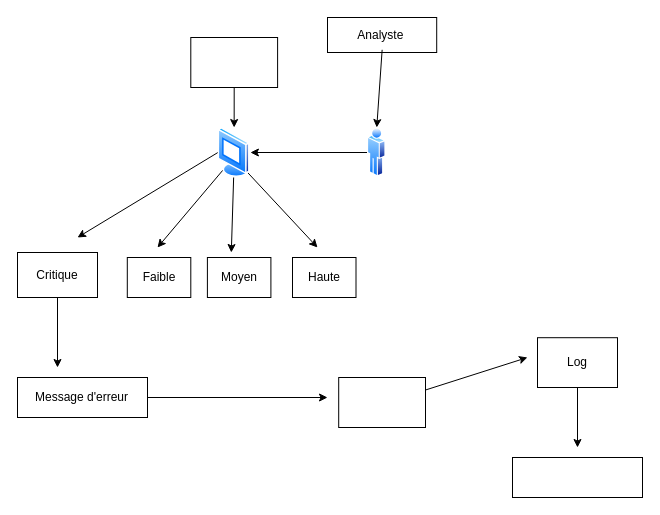
This 660x515 diagram has some shape labels left out. The centre of each missing label's shape, as x and y in pixels:
SIEM: point (382, 402)
SOC: point (234, 62)
Tiimeline: point (577, 477)
